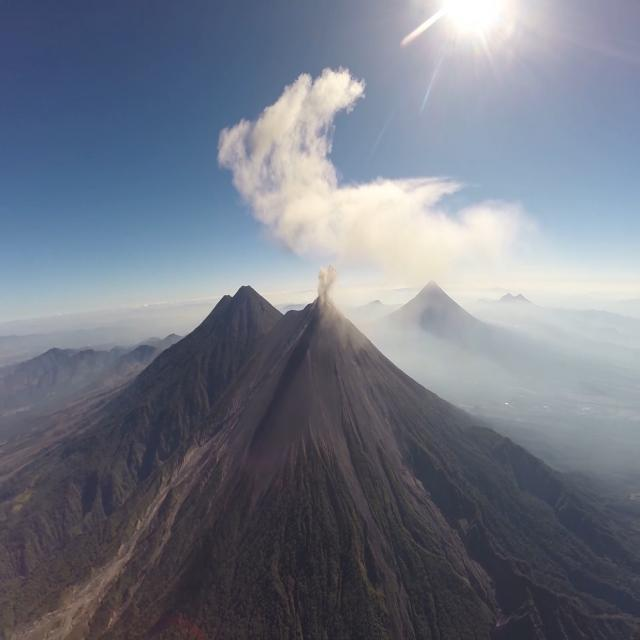Plume: (222, 59, 518, 282), (318, 262, 339, 302)
Summit: (300, 291, 360, 337)
